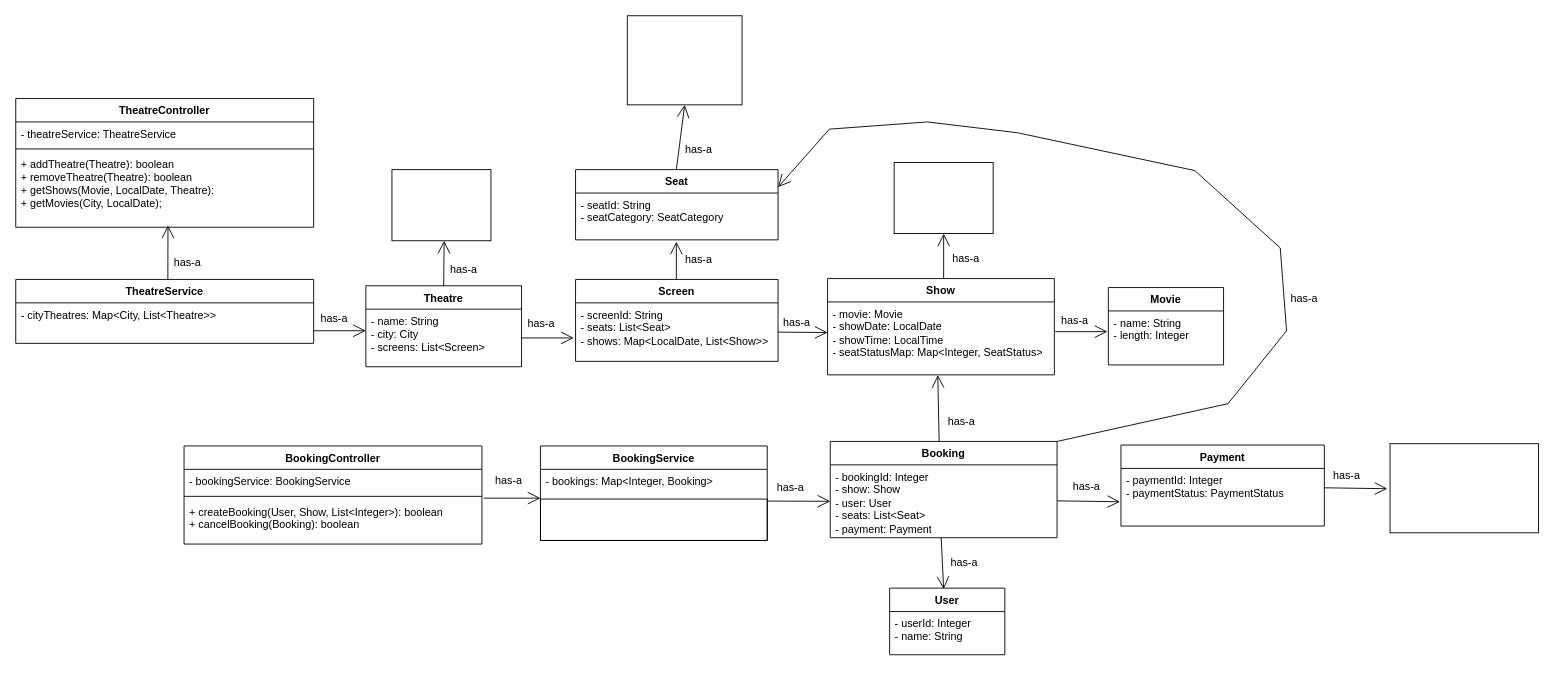
This 1554x673 diagram has some shape labels left out. The shapes that lost their labels are listed below. From the top down, each one's centre as x and y in pixels, then its label:
point (684, 60): enum SeatCategory { GOLD, SILVER, PLATINUM }
point (441, 205): enum City { BANGALORE, DELHI }
point (943, 198): enum SeatStatus { AVAILABLE, BOOKED }
point (1464, 488): enum PaymentStatus { FAILED, SUCCESS, PENDING }
point (653, 519): // business logic to create and cancel booking
